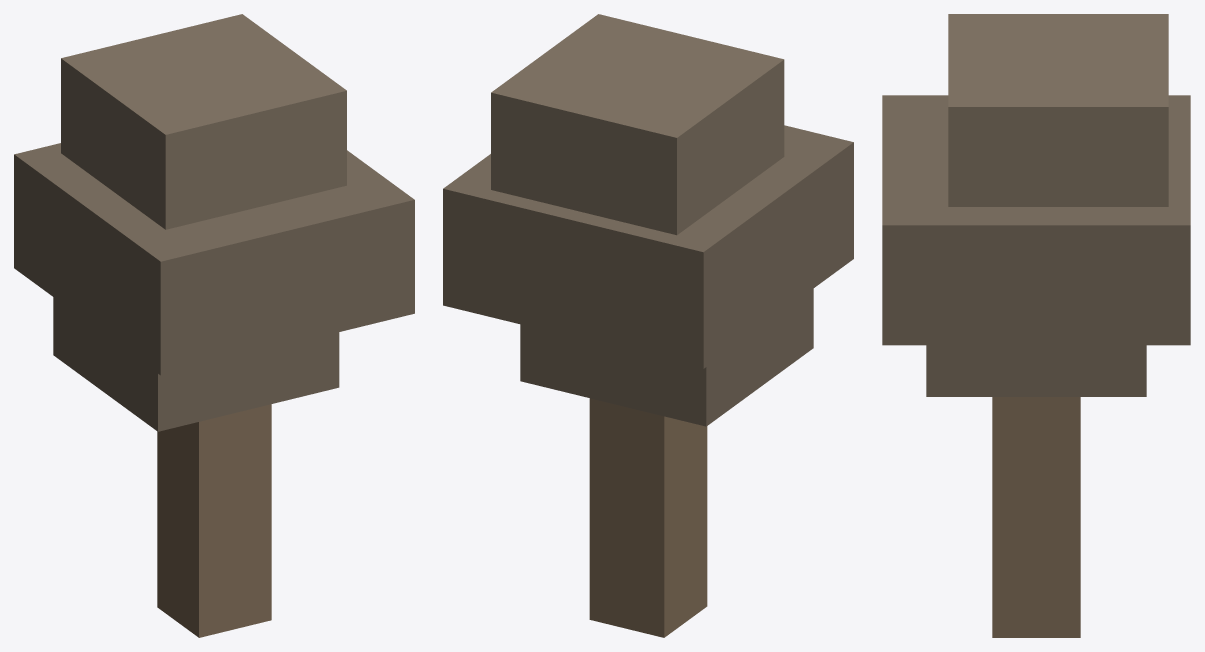
File: algarrobo_04.glb
3 renders of one model, left to right at view 1: azimuth 30°, elevation 25°; view 2: azimuth 150°, elevation 25°; view 3: azimuth 270°, elevation 25°, orthographic. The views are drawn at different scales.
Visible parts, largest first — view 1: algarrobo_04; view 2: algarrobo_04; view 3: algarrobo_04.
Part boxes in pixels (<box>): algarrobo_04: <box>14,14,414,637</box>; algarrobo_04: <box>443,14,853,637</box>; algarrobo_04: <box>882,14,1190,637</box>.
Size of the model in its own units: 1.4 by 2.8 by 1.4.
